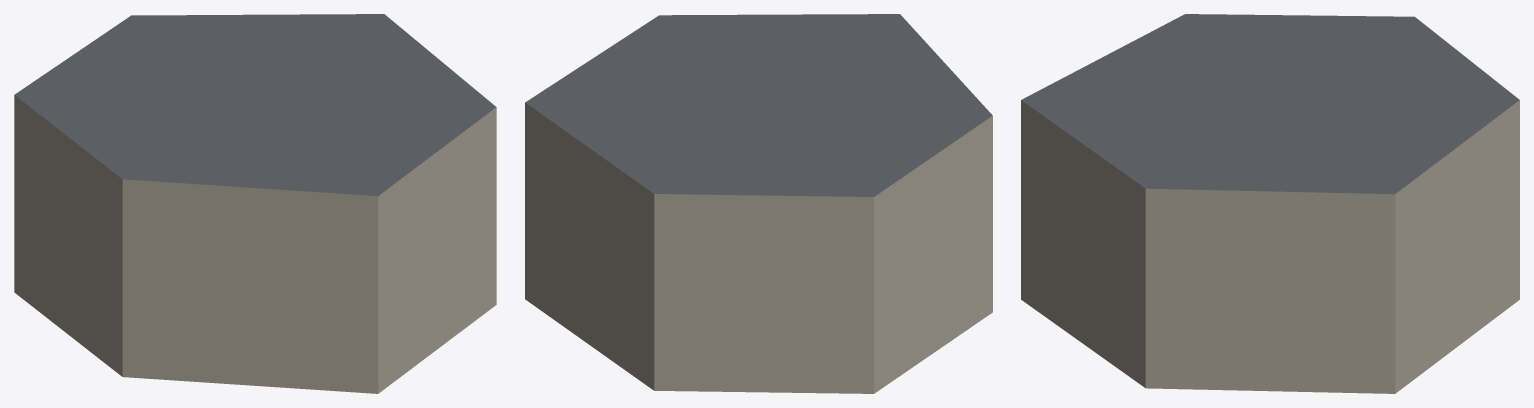
3 views of the same model, side by side, from view 1: azimuth 30°, elevation 25°; view 2: azimuth 150°, elevation 25°; view 3: azimuth 270°, elevation 25° (orthographic).
Visible parts, largest first — view 1: tuile; view 2: tuile; view 3: tuile.
Part boxes in pixels (<box>): tuile: <box>14,14,496,393</box>; tuile: <box>525,14,992,393</box>; tuile: <box>1021,14,1519,393</box>.
Size of the model in its own units: 6.5 by 3.36 by 7.6.
